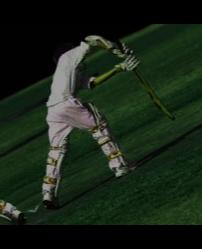batsman: (28, 31, 162, 225)
